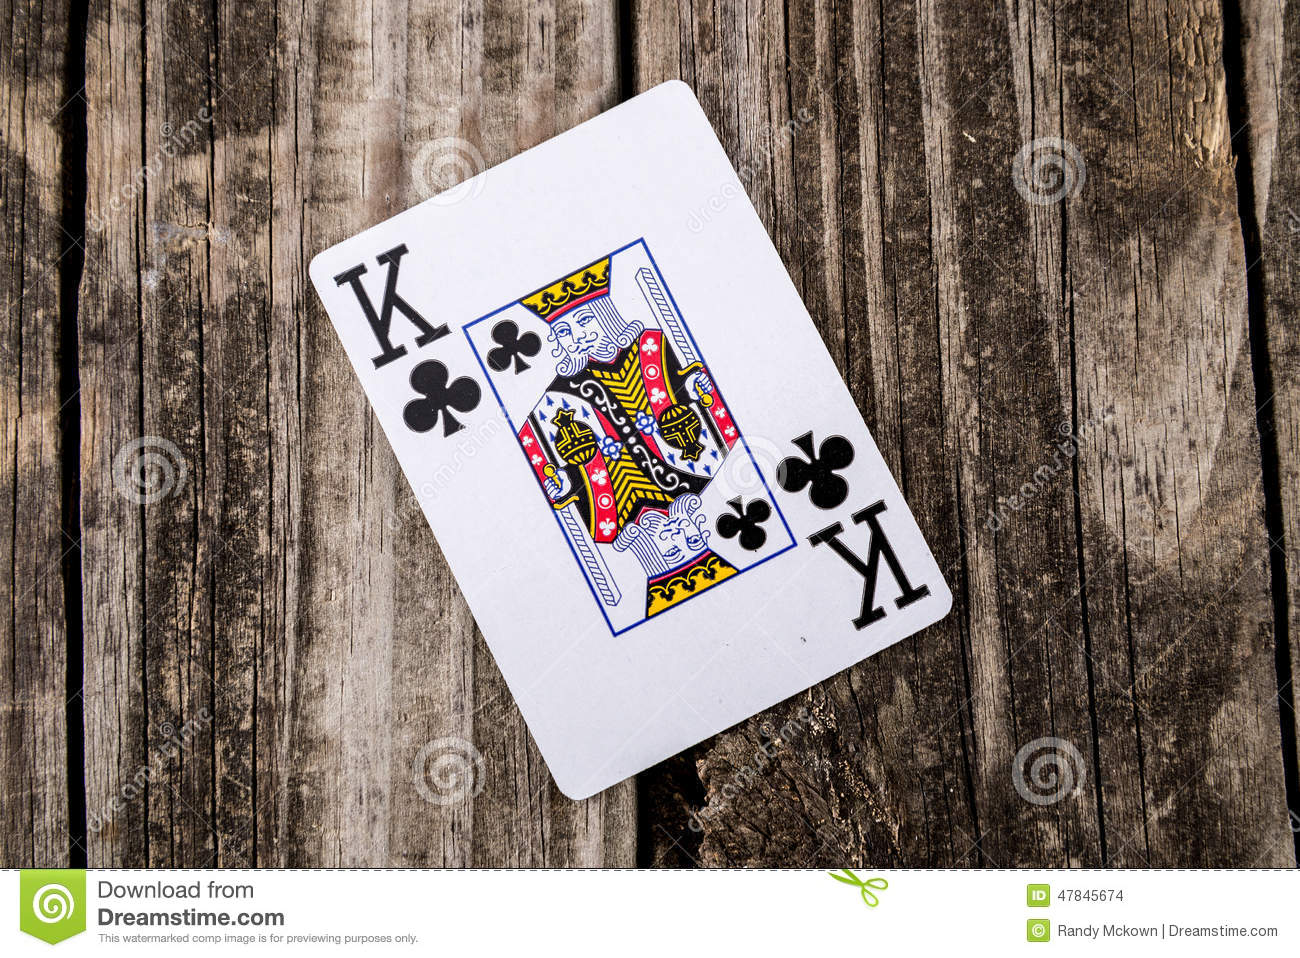king of clubs: (296, 79, 954, 809)
